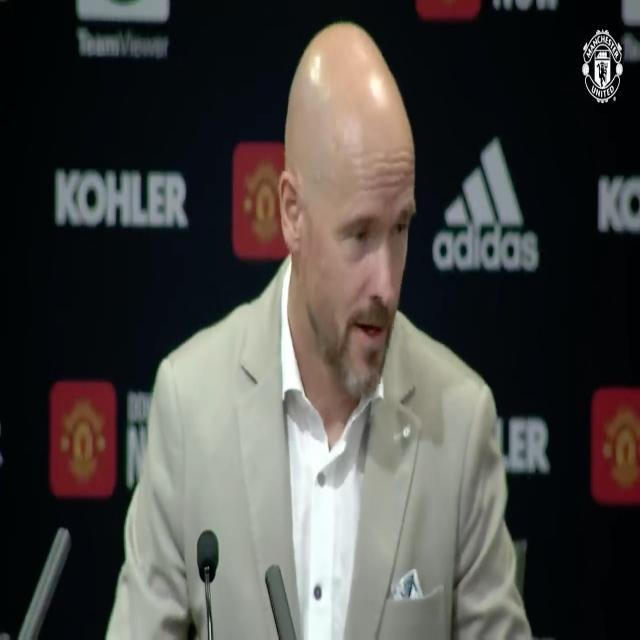Adidas: (431, 135, 540, 274)
Kohler: (55, 168, 188, 230)
TeamViewer: (76, 0, 171, 58)
